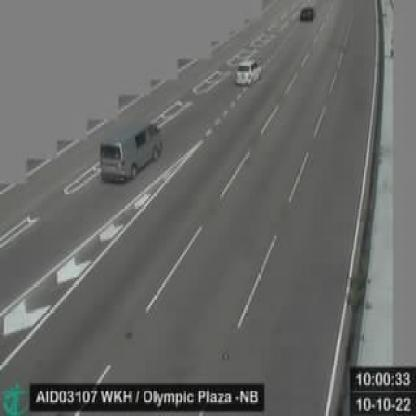Car: (101, 120, 162, 186), (234, 57, 261, 86), (301, 7, 315, 21)
